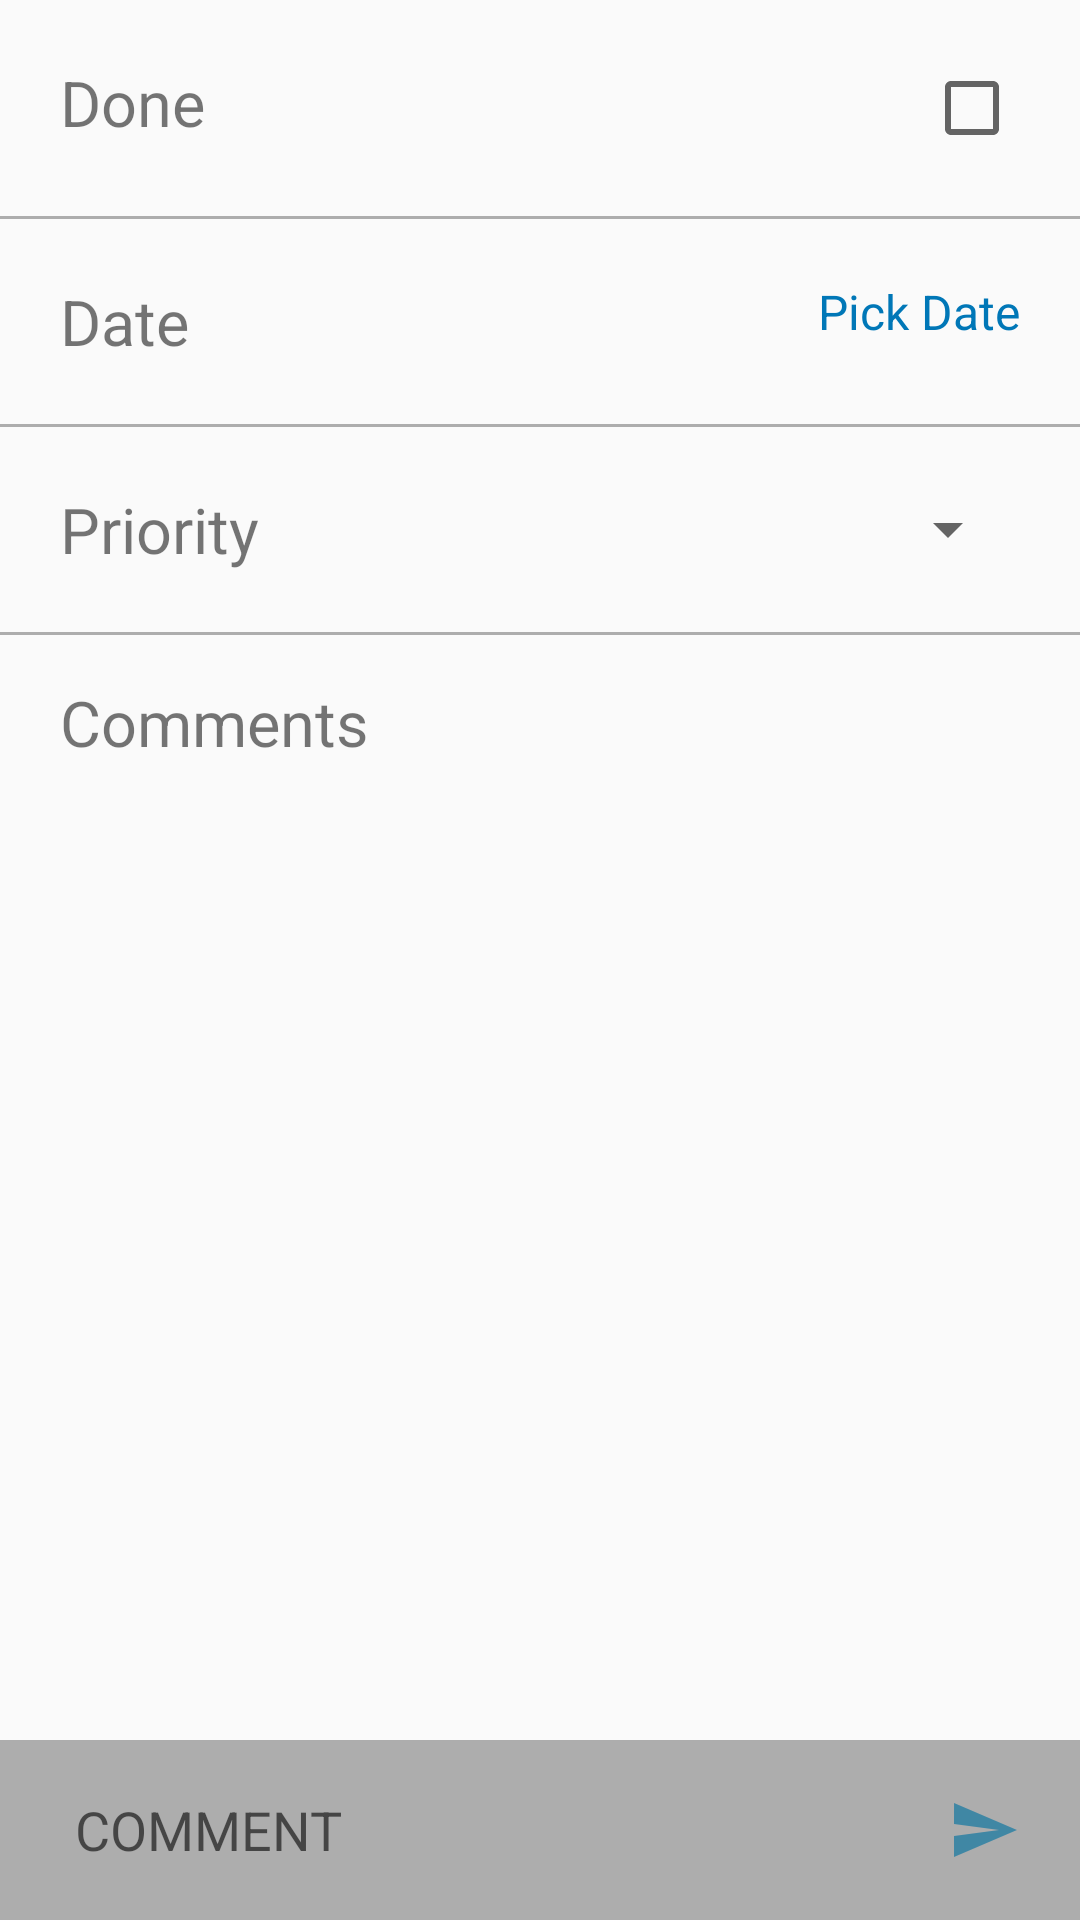

Point at icon controls on the screen. Image size 1080w x 1920h, points as (x=x, y=y).
send: (x=985, y=1830)
